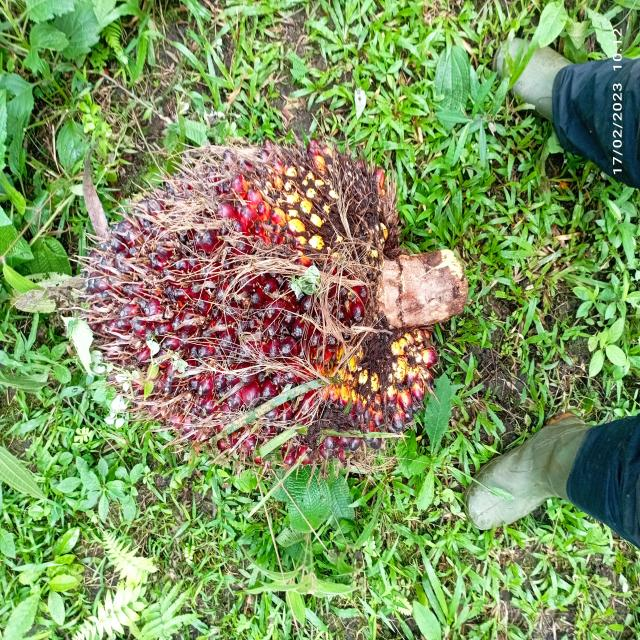fraksi 1: (71, 114, 486, 493)
